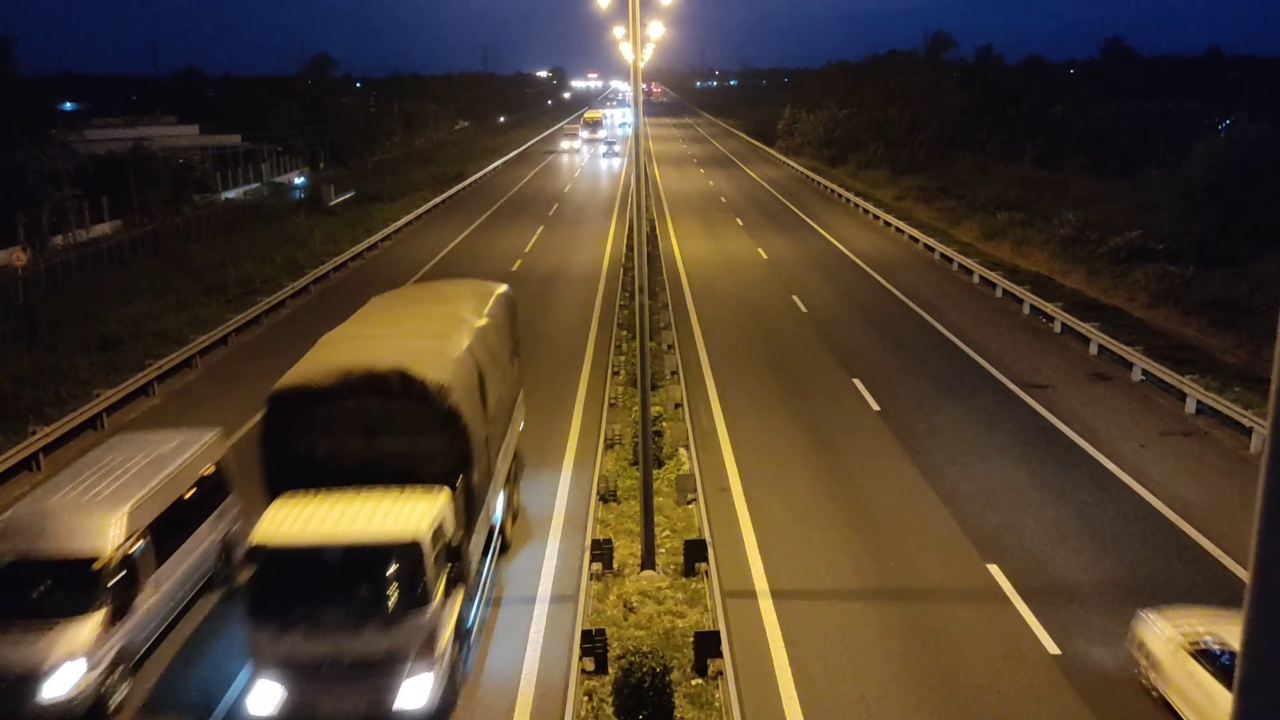car: (1124, 601, 1242, 719)
truck: (229, 277, 527, 717)
